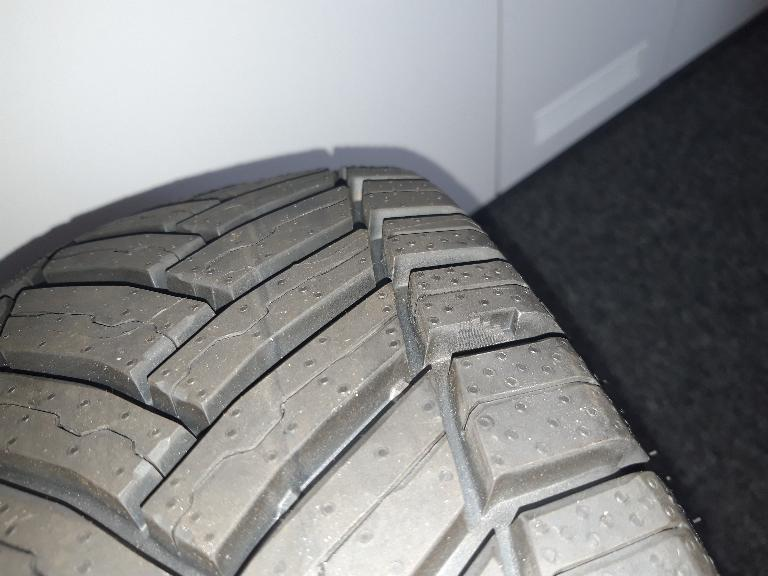temoin:100: (459, 306, 520, 355)
